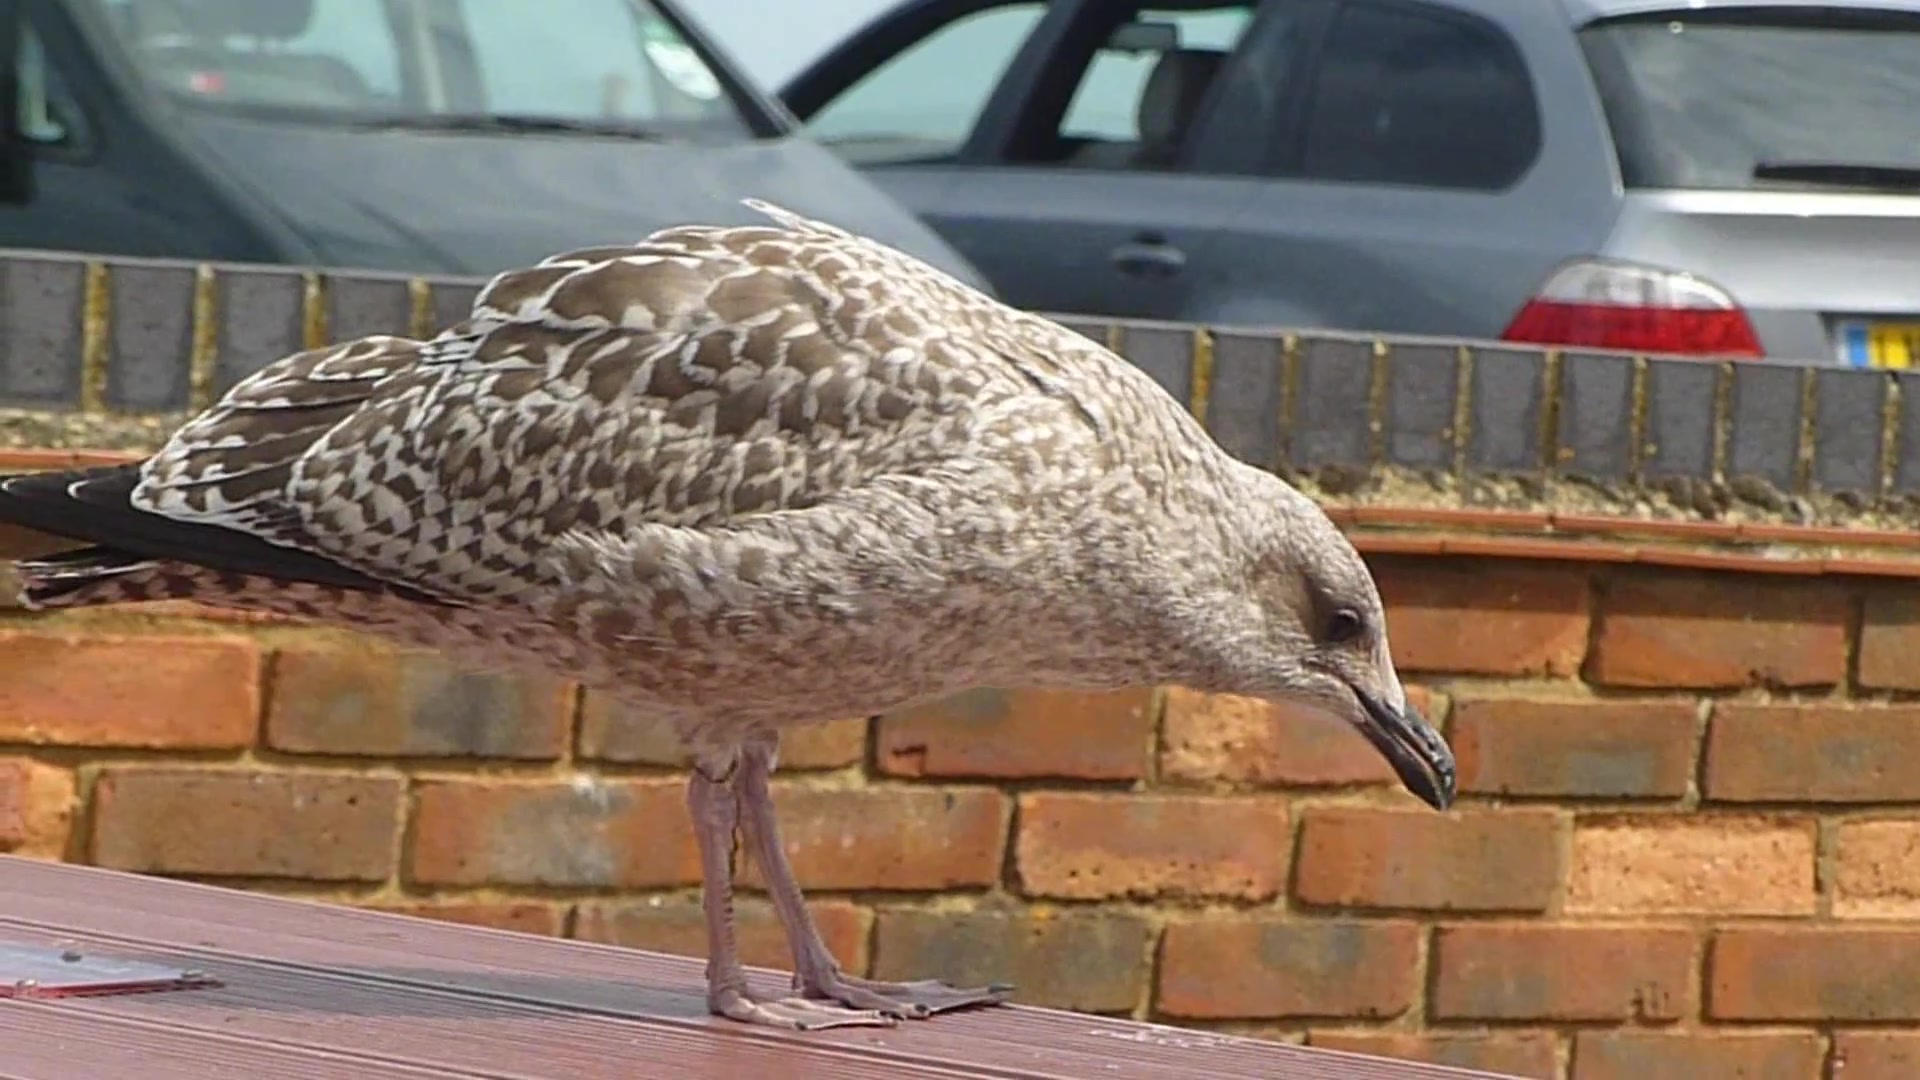bird: (1, 199, 1458, 1034)
